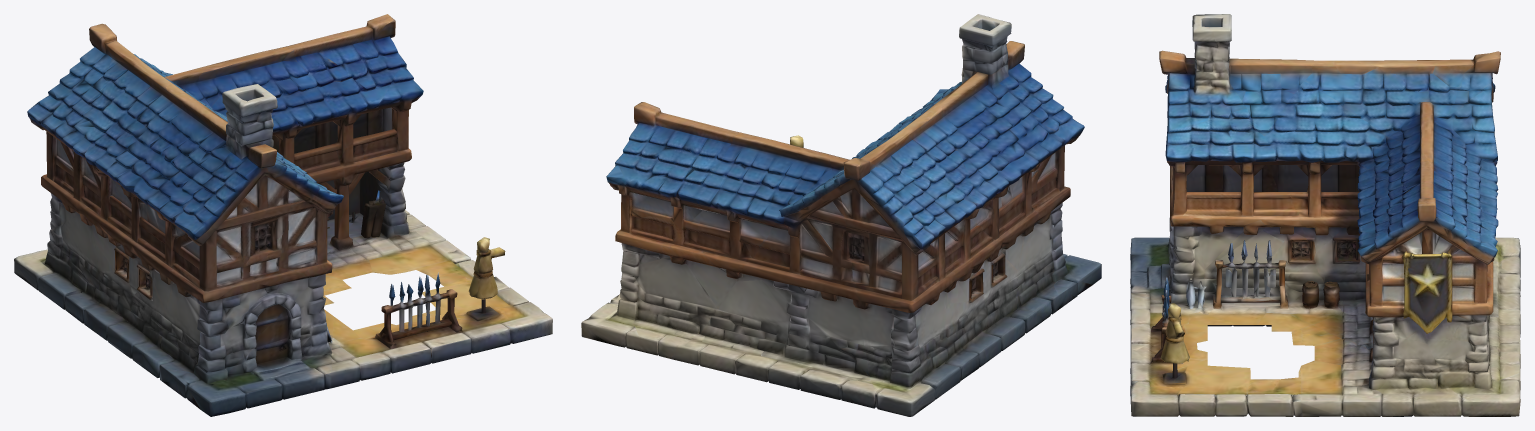
The model's file is barracks-mid.glb.
The picture shows the model from 3 angles, left to right: view 1: azimuth 30°, elevation 25°; view 2: azimuth 150°, elevation 25°; view 3: azimuth 270°, elevation 25°; orthographic projection. The views are drawn at different scales.
Visible parts, largest first — view 1: tripo_node_9ff298f8-7dea-45d6-89e7-8afd8d51ff5a; view 2: tripo_node_9ff298f8-7dea-45d6-89e7-8afd8d51ff5a; view 3: tripo_node_9ff298f8-7dea-45d6-89e7-8afd8d51ff5a.
Part boxes in pixels (left/top/right/bottom): tripo_node_9ff298f8-7dea-45d6-89e7-8afd8d51ff5a: left=14, top=14, right=552, bottom=416; tripo_node_9ff298f8-7dea-45d6-89e7-8afd8d51ff5a: left=581, top=14, right=1101, bottom=416; tripo_node_9ff298f8-7dea-45d6-89e7-8afd8d51ff5a: left=1130, top=14, right=1520, bottom=416.
Bounding box in the file's own units: 0.9984 × 0.7593 × 0.9975.
Materials: 1 (1 with a texture image).
